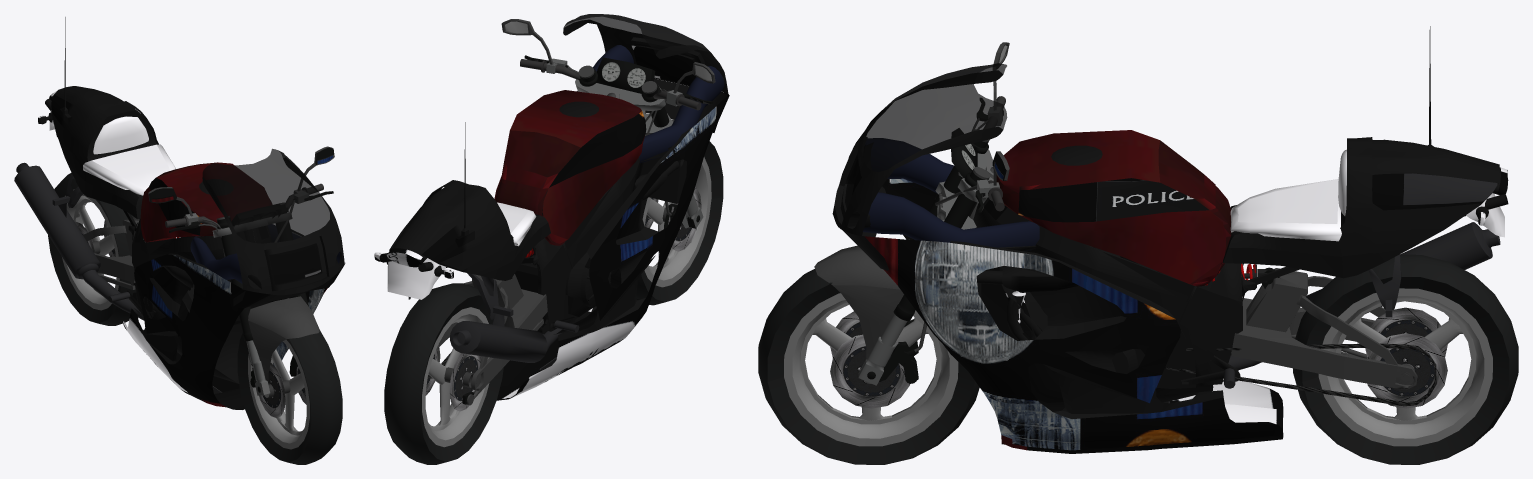
The model's file is PoliceBike1.FBX.
The picture shows the model from 3 angles, left to right: view 1: azimuth 30°, elevation 25°; view 2: azimuth 150°, elevation 25°; view 3: azimuth 270°, elevation 25°; orthographic projection. The views are drawn at different scales.
Visible parts, largest first — view 1: Body, FrontWheel, Steer, BackWheel, Rear; view 2: Body, BackWheel, Steer, FrontWheel, Rear; view 3: Body, BackWheel, FrontWheel, Steer, Rear.
Part boxes in pixels (box(x1,y1,x2,y2)): Body: box(14, 17, 345, 409); FrontWheel: box(237, 330, 342, 464); Steer: box(148, 146, 334, 395); BackWheel: box(48, 173, 137, 325); Rear: box(83, 217, 178, 289); Body: box(374, 14, 729, 400); BackWheel: box(384, 283, 503, 464); Steer: box(501, 19, 715, 228); FrontWheel: box(635, 141, 723, 305); Rear: box(439, 248, 547, 405); Body: box(832, 26, 1508, 453); BackWheel: box(1293, 254, 1518, 464); FrontWheel: box(758, 269, 979, 464); Steer: box(814, 42, 1009, 385); Rear: box(1165, 263, 1436, 406).
Bounding box in the file's own units: 7.2 × 11.39 × 18.25.
